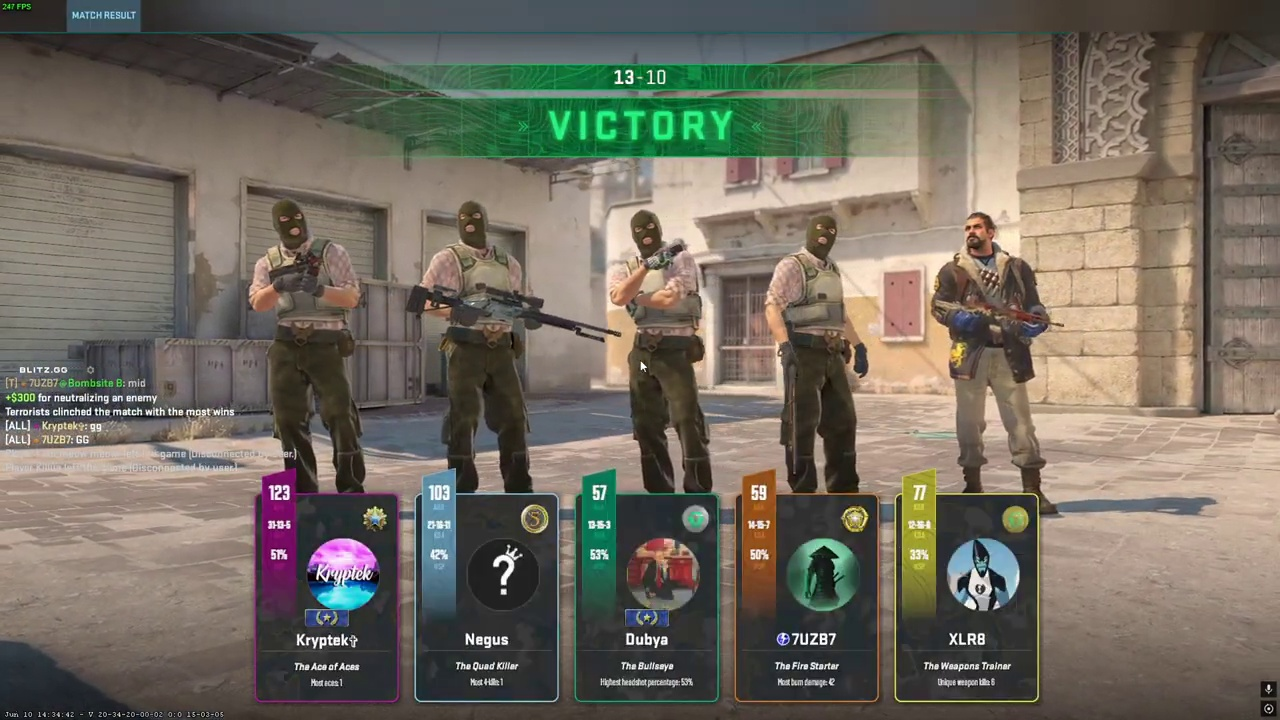Terrorist: (939, 211, 1049, 518), (427, 200, 539, 493), (260, 199, 366, 494), (616, 209, 711, 493), (770, 213, 866, 493)
